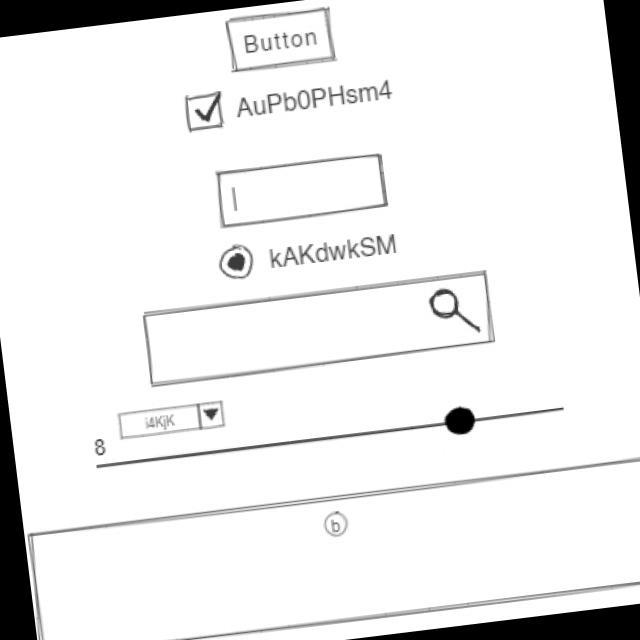button: (224, 3, 341, 77)
checkbox: (182, 69, 397, 134)
container: (24, 452, 640, 640)
icon-button: (321, 508, 352, 541)
input: (213, 149, 393, 232)
radio: (217, 224, 401, 283)
search: (139, 268, 500, 390)
select: (116, 398, 229, 443)
slider: (114, 393, 567, 480)
